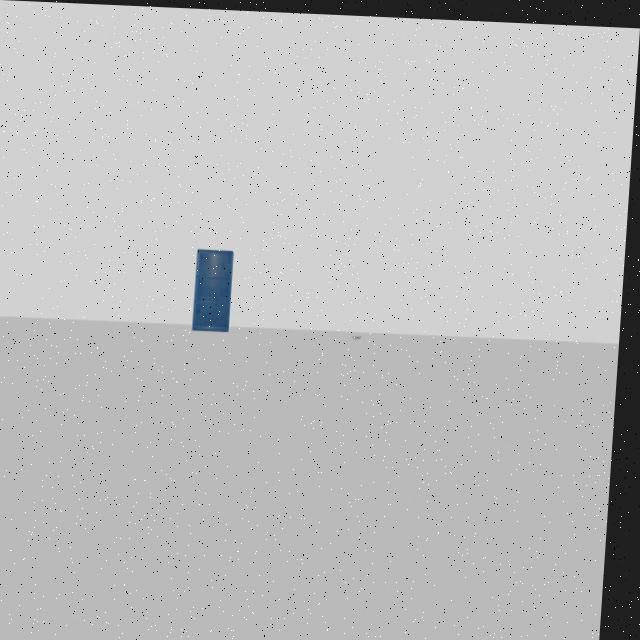bowl: (351, 328, 372, 347)
shelf: (189, 242, 245, 337)
